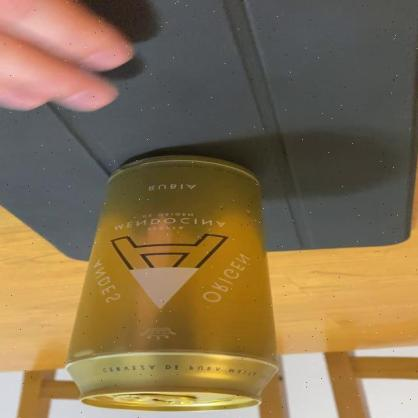can: (67, 150, 280, 412)
